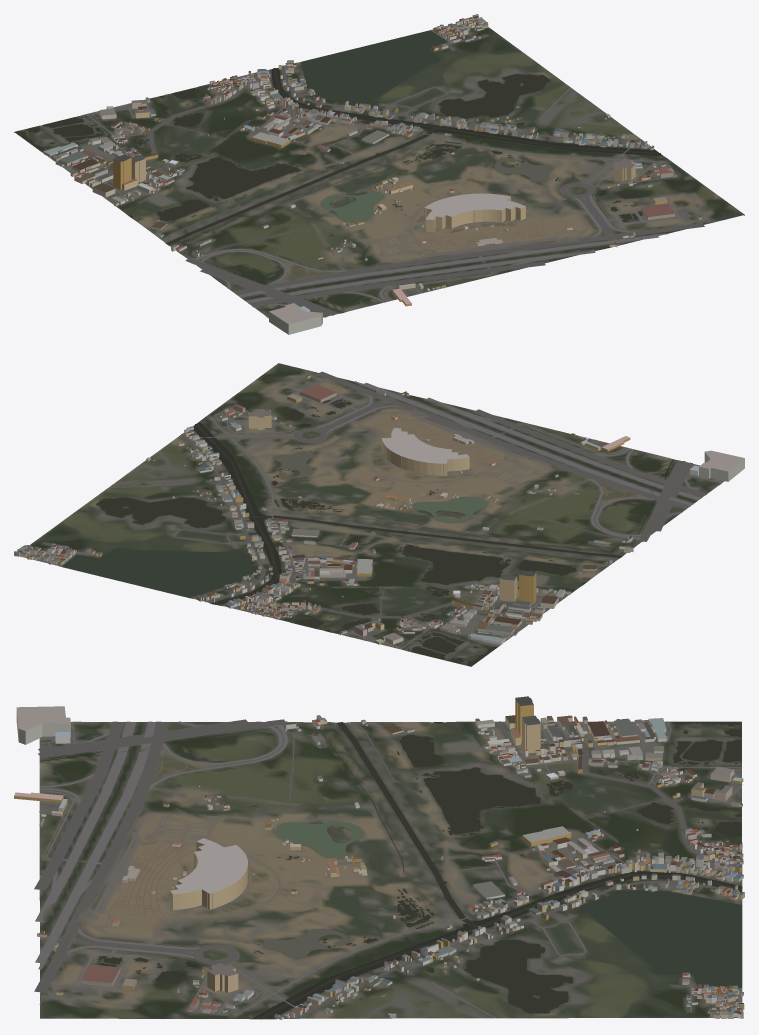
The picture shows the model from 3 angles, top to bottom: view 1: azimuth 30°, elevation 25°; view 2: azimuth 150°, elevation 25°; view 3: azimuth 270°, elevation 25°; orthographic projection. The views are drawn at different scales.
Parts seen in each view (by area): view 1: ground, buildings, water, roads; view 2: ground, buildings, water, roads; view 3: ground, water, buildings, roads.
Part boxes in pixels (x1,y1,x2,y2): ground: (14,23,744,317); buildings: (43,14,701,334); water: (15,30,662,312); roads: (42,27,723,318); ground: (15,363,724,666); buildings: (14,374,744,644); water: (62,399,673,666); roads: (25,368,721,649); ground: (39,721,742,1019); water: (39,721,742,1019); buildings: (14,696,744,1019); roads: (34,719,742,1018).
Bounding box in the file's own units: 1419 × 86.21 × 1459.
